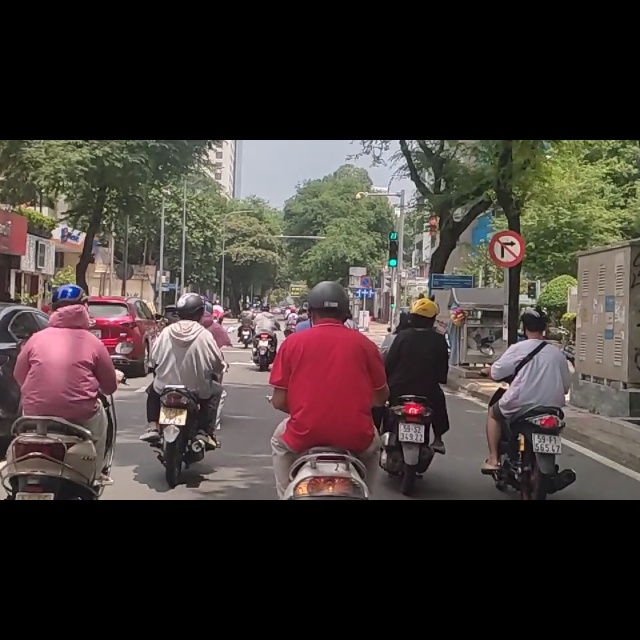bien_cam: (490, 161, 522, 222), (359, 241, 371, 264)
